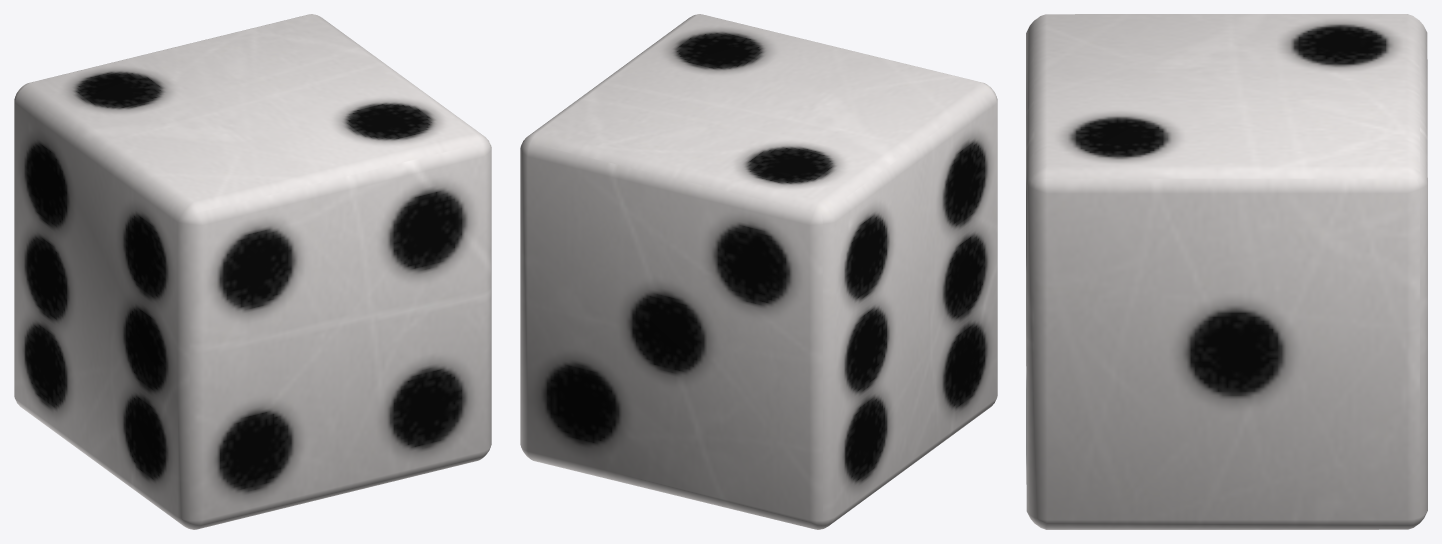
File: SingleDie.obj
The picture shows the model from 3 angles, left to right: view 1: azimuth 30°, elevation 25°; view 2: azimuth 150°, elevation 25°; view 3: azimuth 270°, elevation 25°; orthographic projection. The views are drawn at different scales.
Visible parts, largest first — view 1: single_die_single_die; view 2: single_die_single_die; view 3: single_die_single_die.
Part boxes in pixels (<box>): single_die_single_die: <box>14,14,491,529</box>; single_die_single_die: <box>520,14,997,529</box>; single_die_single_die: <box>1026,14,1427,529</box>.
Bounding box in the file's own units: 0.0432 × 0.0432 × 0.0432.
